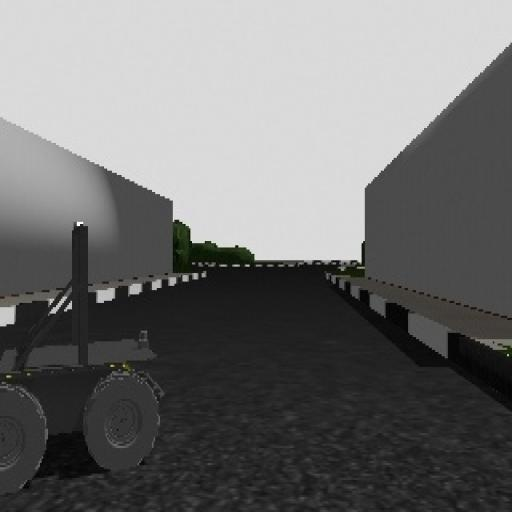huskya200: (0, 212, 166, 501)
